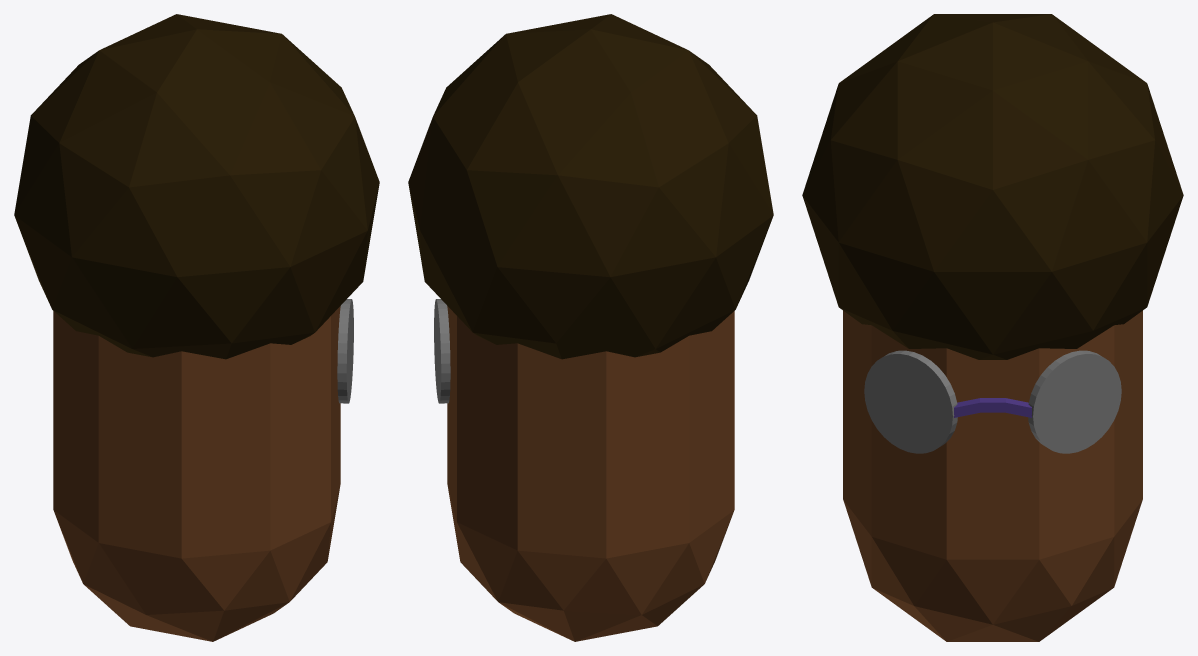
The model's file is Player_Afro.fbx.
3 views of the same model, side by side, from view 1: azimuth 30°, elevation 25°; view 2: azimuth 150°, elevation 25°; view 3: azimuth 270°, elevation 25° (orthographic). The views are drawn at different scales.
Visible parts, largest first — view 1: Icosphere.001, Icosphere, Circle; view 2: Icosphere.001, Icosphere, Circle; view 3: Icosphere.001, Icosphere, Circle, Cube.
Boxes of the visible parts, x1,y1,x2,y2 form: Icosphere.001: (14, 14, 379, 359); Icosphere: (53, 306, 340, 641); Circle: (337, 299, 353, 403); Icosphere.001: (408, 14, 773, 359); Icosphere: (447, 306, 734, 641); Circle: (434, 299, 450, 403); Icosphere.001: (802, 14, 1183, 359); Icosphere: (843, 310, 1142, 641); Circle: (864, 350, 1121, 453); Cube: (954, 398, 1031, 417).
Bounding box in the file's own units: 2.42 × 4.51 × 2.55.
